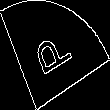P_SW: (32, 27, 78, 83)
